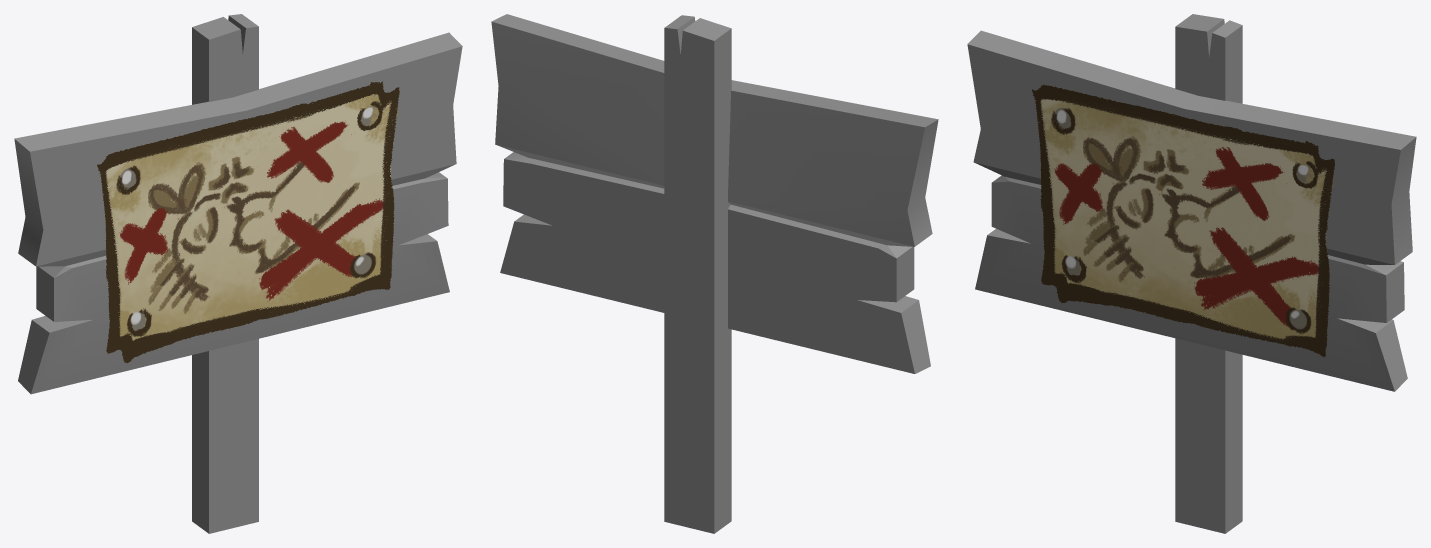
Rendered from F_WoodenSign001.fbx.
3 renders of one model, left to right at view 1: azimuth 30°, elevation 25°; view 2: azimuth 150°, elevation 25°; view 3: azimuth 330°, elevation 25°, orthographic.
Parts seen in each view (by area): view 1: WoodenSign001, Plane016; view 2: WoodenSign001; view 3: WoodenSign001, Plane016.
Boxes of the visible parts, bbox=[...] form: WoodenSign001: bbox=[14, 14, 462, 533]; Plane016: bbox=[97, 81, 399, 362]; WoodenSign001: bbox=[491, 14, 938, 533]; WoodenSign001: bbox=[967, 14, 1416, 533]; Plane016: bbox=[1032, 85, 1334, 356].
Size of the model in its own units: 114 by 124 by 14.9.
